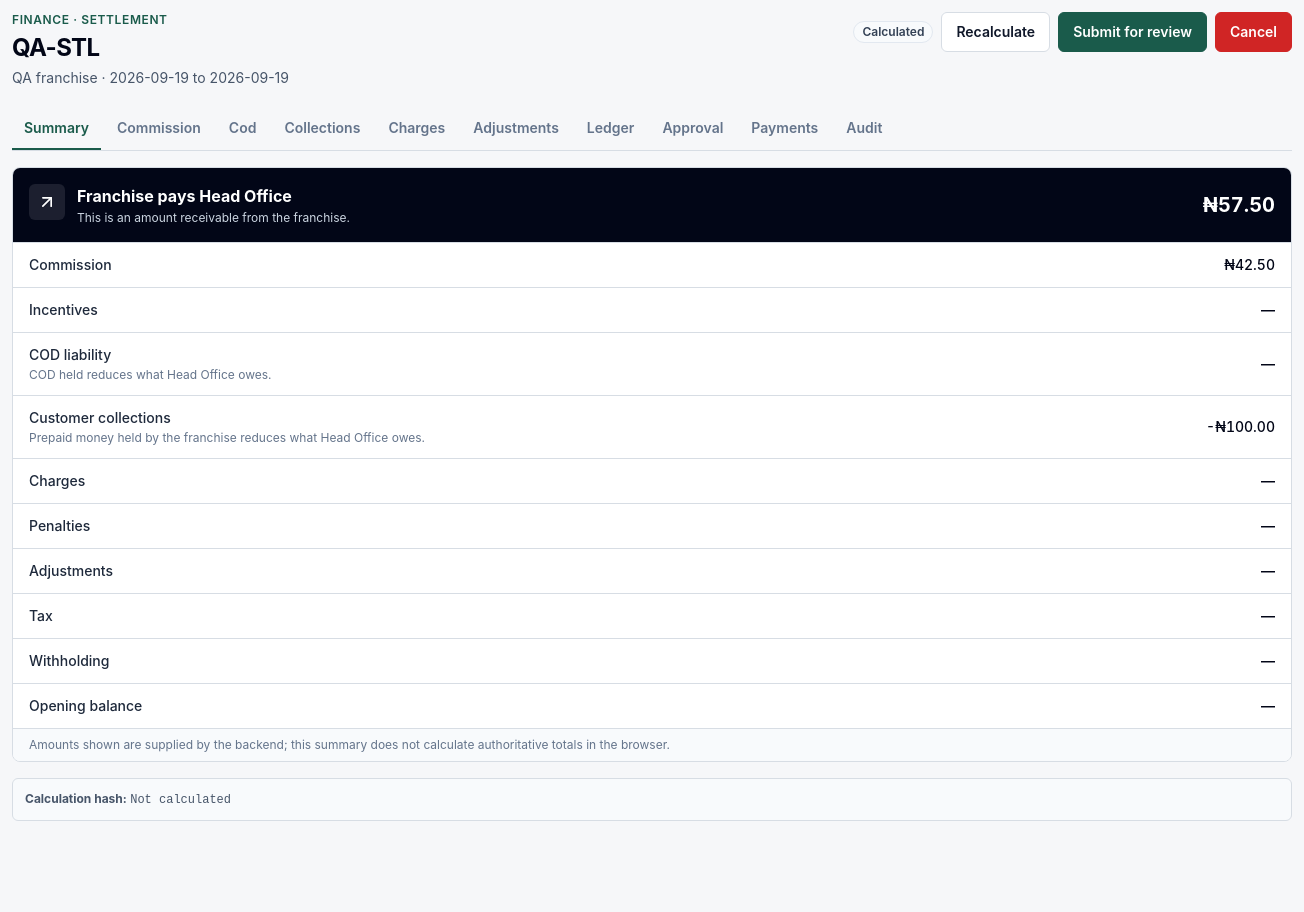
Test: live QA regressions › explains prepaid collections in the settlement total and source tab
Expected: the heading "Franchise pays Head Office" is shown, [77, 186, 292, 206]
Expected: the text "Customer collections" is shown, [29, 409, 171, 426]
Click the tab "Collections": (322, 129) [272, 108, 372, 150]
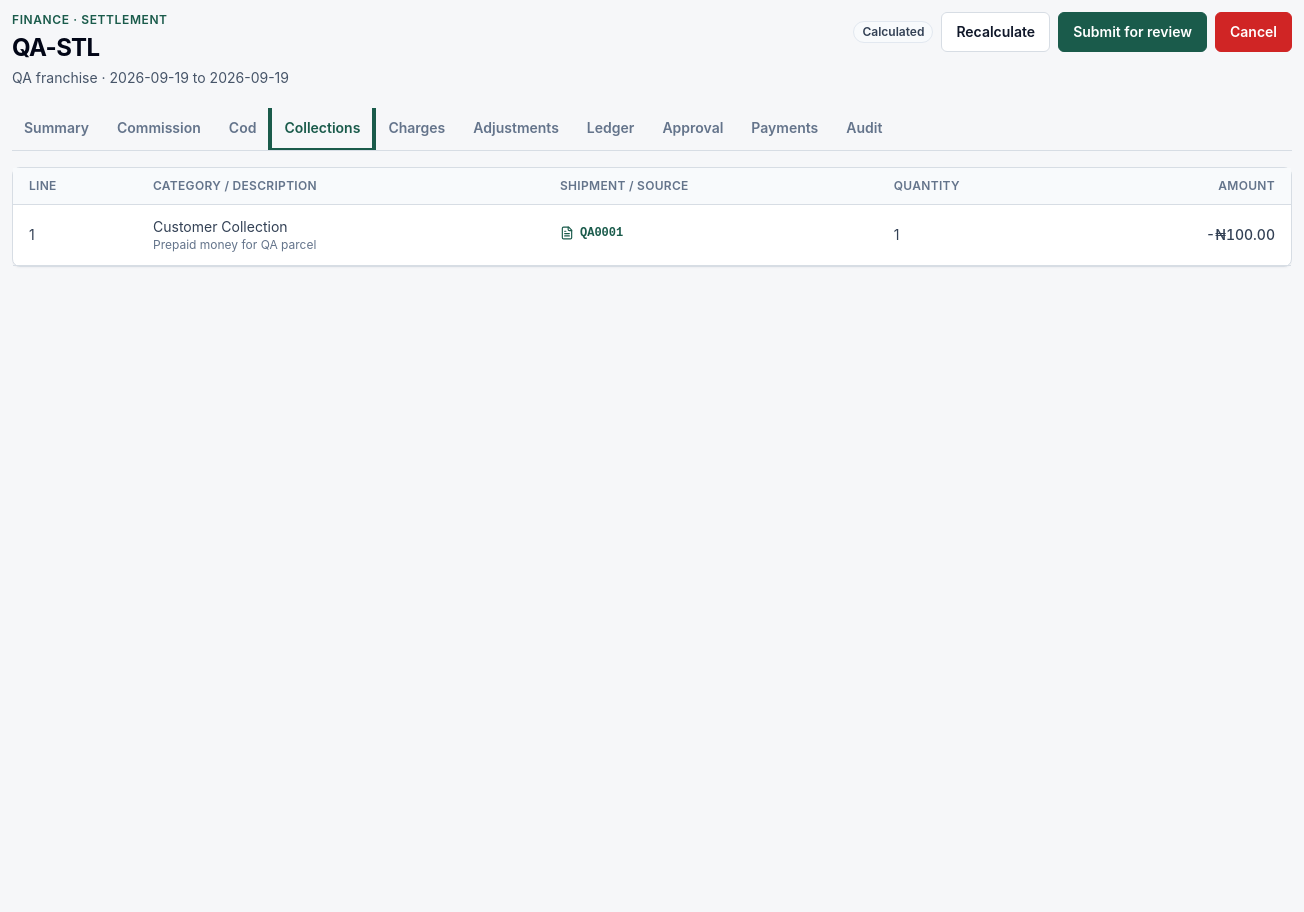
Result: the text "Prepaid money for QA parcel" is shown at [153, 237, 316, 252]
